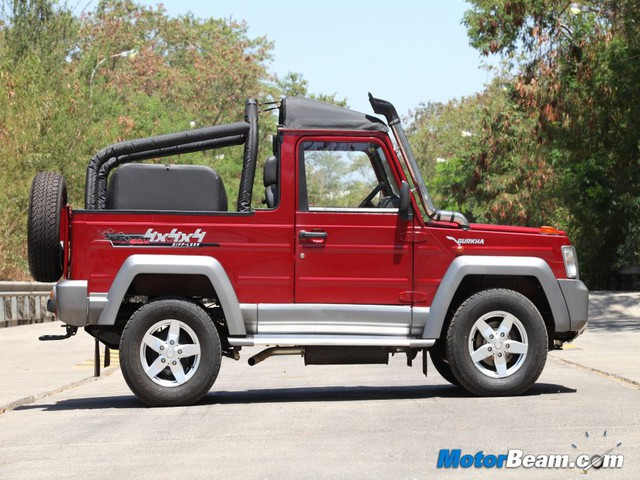Vehicle: (16, 91, 601, 402)
